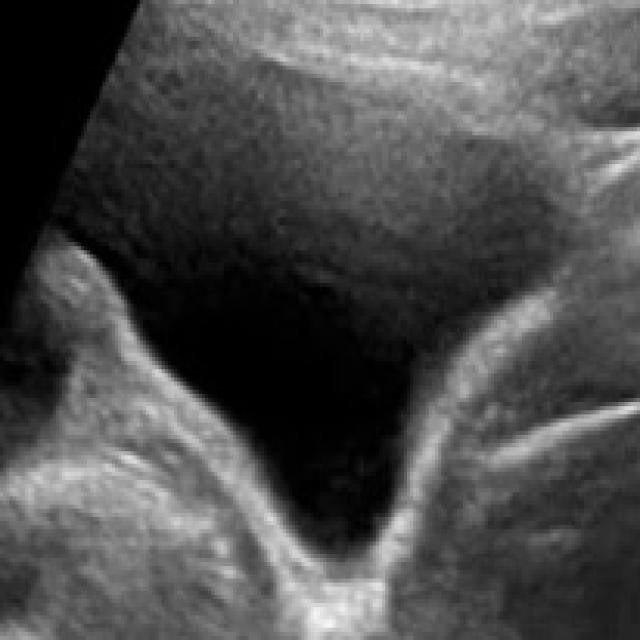bladder: (24, 6, 610, 608)
